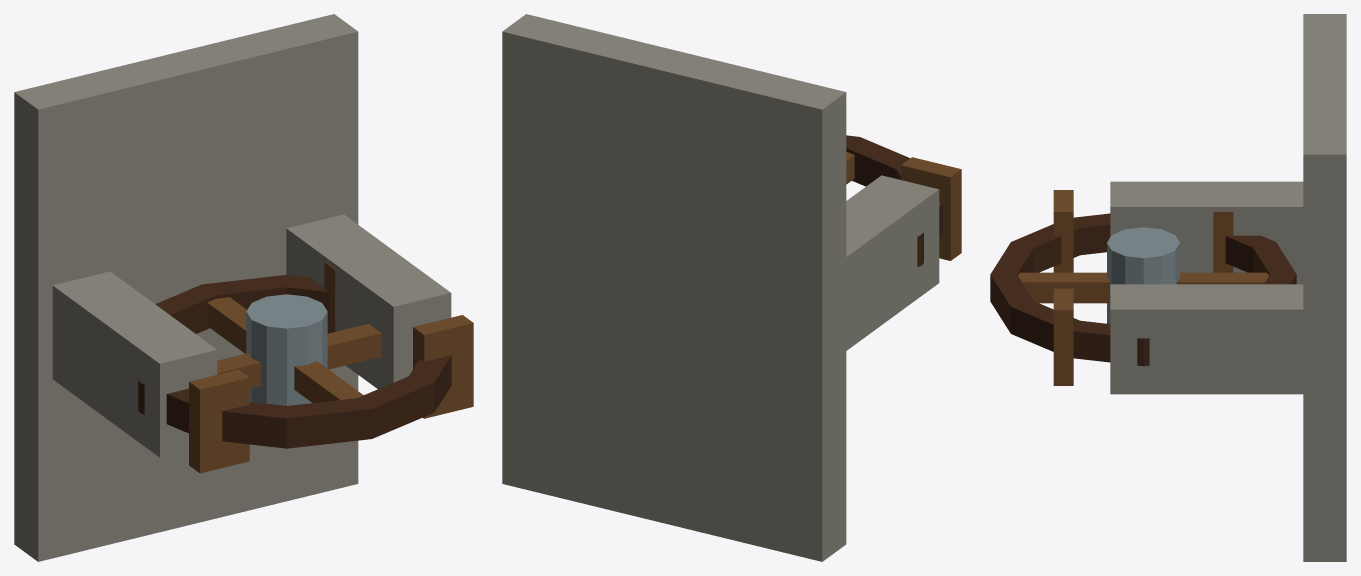
Rendered from stone-water-wheel.obj.
3 views of the same model, side by side, from view 1: azimuth 30°, elevation 25°; view 2: azimuth 150°, elevation 25°; view 3: azimuth 270°, elevation 25° (orthographic). The views are drawn at different scales.
Parts seen in each view (by area): view 1: stone-water-wheel_base, stone-water-wheel_left_pier, stone-water-wheel_wheel_rim, stone-water-wheel_right_pier, stone-water-wheel_hub, stone-water-wheel_wheel_paddle__0_7_0_48, stone-water-wheel_wheel_paddle_0_7_0_48, stone-water-wheel_spoke_vertical, stone-water-wheel_spoke_horizontal, stone-water-wheel_wheel_paddle_0_7__0_48; view 2: stone-water-wheel_base, stone-water-wheel_left_pier, stone-water-wheel_wheel_paddle__0_7_0_48, stone-water-wheel_wheel_rim; view 3: stone-water-wheel_base, stone-water-wheel_right_pier, stone-water-wheel_left_pier, stone-water-wheel_wheel_rim, stone-water-wheel_hub, stone-water-wheel_spoke_vertical, stone-water-wheel_wheel_paddle_0_7_0_48, stone-water-wheel_wheel_paddle__0_7_0_48, stone-water-wheel_wheel_paddle__0_7__0_48.
Boxes of the visible parts, x1=… form: stone-water-wheel_base: x1=14, y1=14, x2=358, y2=561; stone-water-wheel_left_pier: x1=52, y1=271, x2=217, y2=457; stone-water-wheel_wheel_rim: x1=138, y1=275, x2=451, y2=448; stone-water-wheel_right_pier: x1=286, y1=214, x2=451, y2=388; stone-water-wheel_hub: x1=246, y1=294, x2=327, y2=405; stone-water-wheel_wheel_paddle__0_7_0_48: x1=189, y1=369, x2=249, y2=473; stone-water-wheel_wheel_paddle_0_7_0_48: x1=413, y1=315, x2=473, y2=418; stone-water-wheel_spoke_vertical: x1=207, y1=297, x2=363, y2=402; stone-water-wheel_spoke_horizontal: x1=217, y1=324, x2=381, y2=388; stone-water-wheel_wheel_paddle_0_7__0_48: x1=324, y1=262, x2=336, y2=333; stone-water-wheel_base: x1=502, y1=14, x2=846, y2=561; stone-water-wheel_left_pier: x1=846, y1=175, x2=939, y2=350; stone-water-wheel_wheel_paddle__0_7_0_48: x1=901, y1=157, x2=961, y2=260; stone-water-wheel_wheel_rim: x1=846, y1=135, x2=942, y2=266; stone-water-wheel_base: x1=1303, y1=14, x2=1346, y2=561; stone-water-wheel_right_pier: x1=1110, y1=284, x2=1303, y2=394; stone-water-wheel_left_pier: x1=1110, y1=181, x2=1303, y2=284; stone-water-wheel_wheel_rim: x1=990, y1=213, x2=1296, y2=366; stone-water-wheel_hub: x1=1107, y1=227, x2=1179, y2=323; stone-water-wheel_spoke_vertical: x1=1018, y1=272, x2=1268, y2=303; stone-water-wheel_wheel_paddle_0_7_0_48: x1=1053, y1=288, x2=1073, y2=385; stone-water-wheel_wheel_paddle__0_7_0_48: x1=1053, y1=190, x2=1073, y2=272; stone-water-wheel_wheel_paddle__0_7__0_48: x1=1213, y1=211, x2=1233, y2=272.
Size of the model in its own units: 2 by 2.7 by 2.14.
